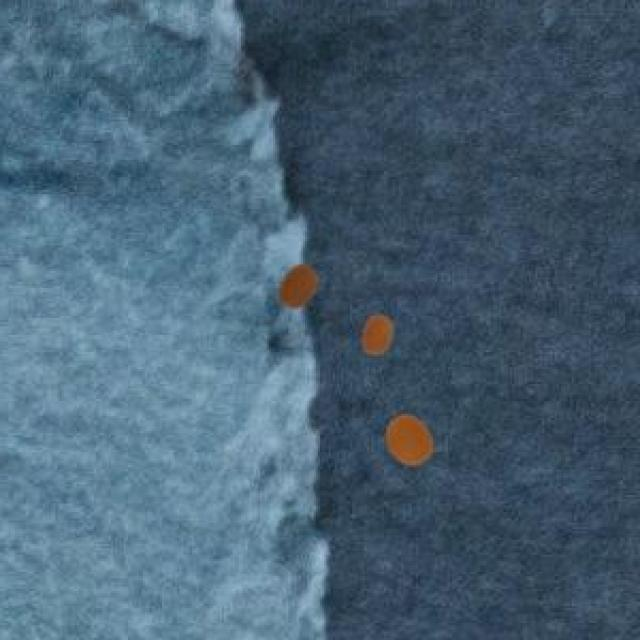Bactidol: (382, 407, 443, 476), (270, 251, 324, 322), (353, 302, 400, 375)
